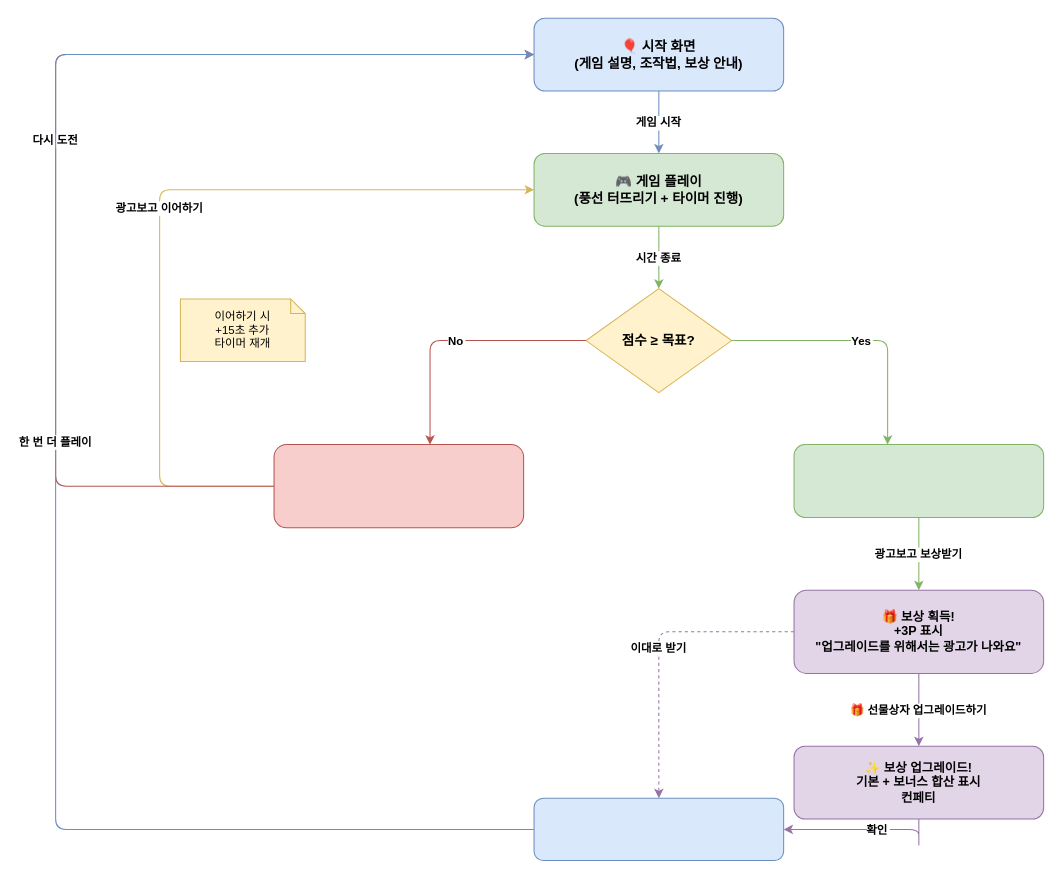
Image size: 1062x879. Some labels were removed from this diagram. Here are the shapes that lost their labels. From the top down, the centre of each, then its label:
At point (398, 486): "😢 게임 오버 점수 표시 이어하기 안내 (15초 추가)".
At point (918, 480): "🎉 클리어! 점수 표시 + 컨페티".
At point (658, 829): "🏆 완료 총 획득 포인트 표시".
